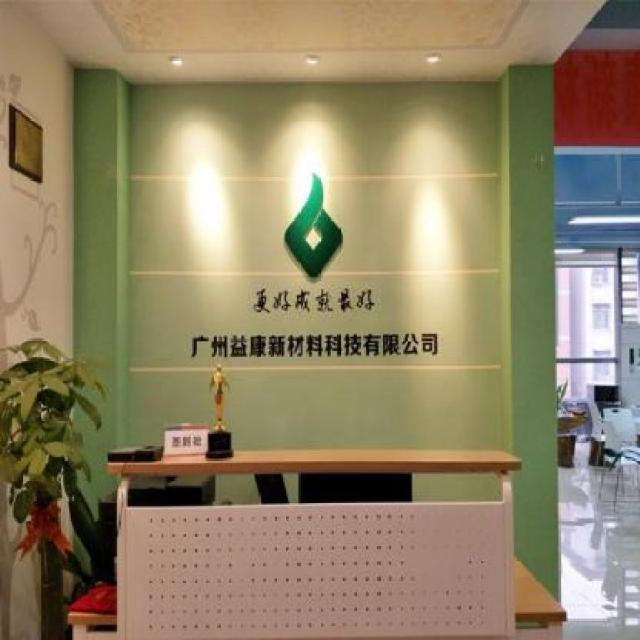frontdesk: (100, 417, 525, 640)
